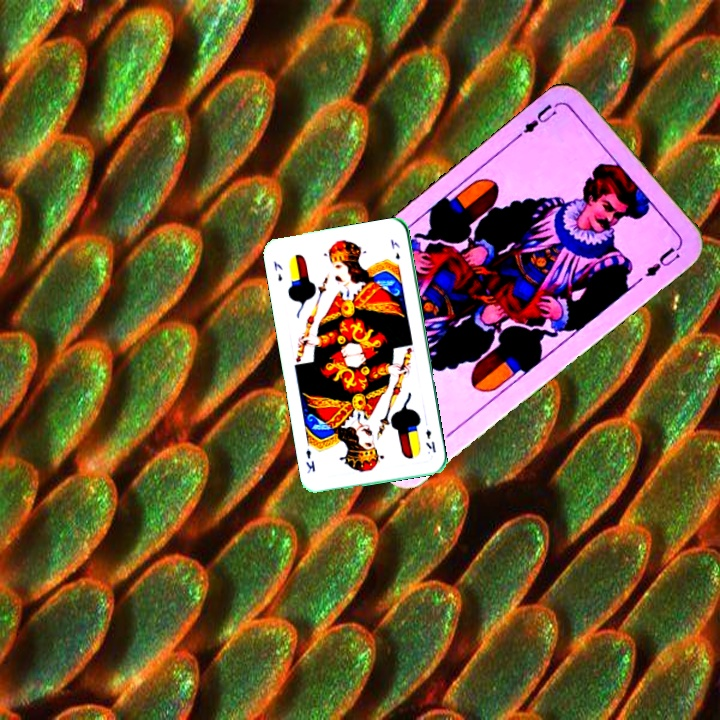EK: (421, 426, 438, 455), (270, 257, 285, 284)
EU: (514, 97, 565, 139)
